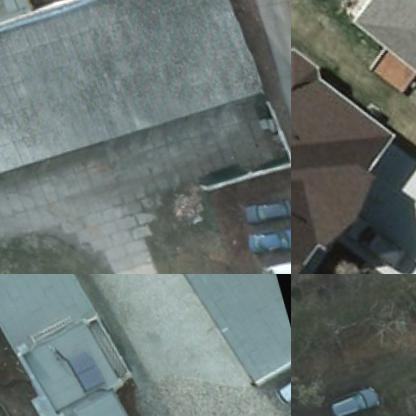car: (334, 210, 402, 271), (321, 374, 383, 415), (236, 186, 290, 225), (244, 214, 290, 253), (254, 243, 290, 273), (267, 357, 290, 403)
